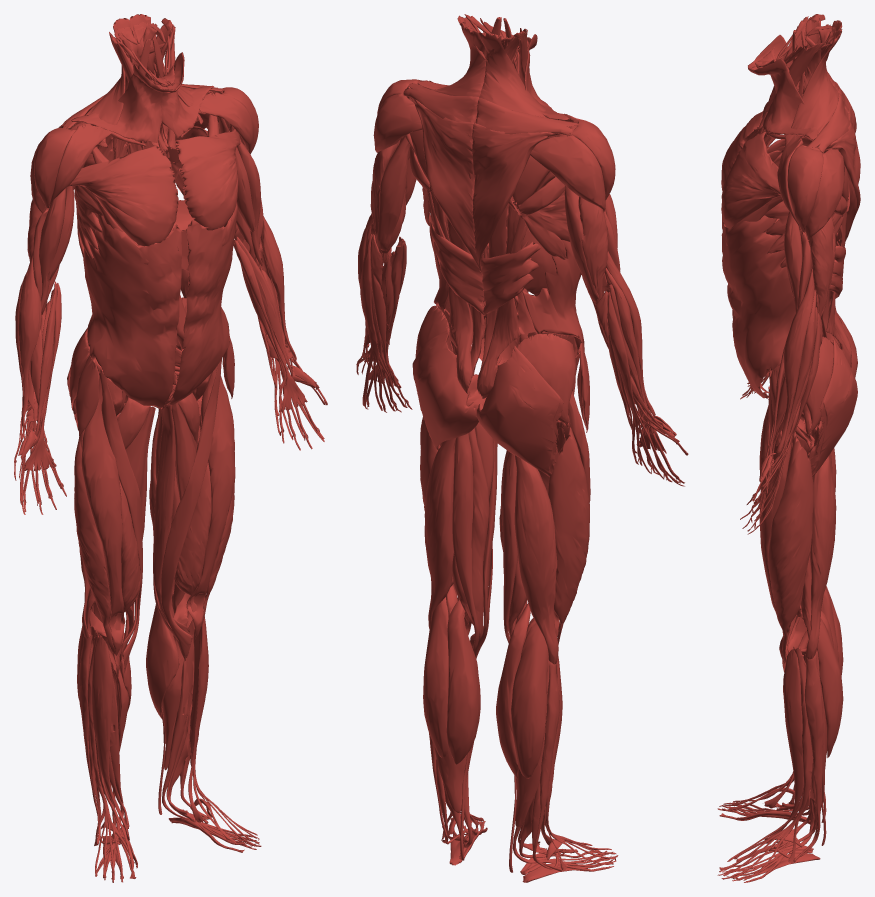
The model's file is muscles.glb.
3 renders of one model, left to right at view 1: azimuth 30°, elevation 25°; view 2: azimuth 150°, elevation 25°; view 3: azimuth 270°, elevation 25°, orthographic. The views are drawn at different scales.
Parts seen in each view (by area): view 1: external-oblique-r, external-oblique-l, pectoralis-major-r, rectus-femoris-r, pectoralis-major-l, rectus-femoris-l, sartorius-l, deltoid-r, vastus-lateralis-r, platysma-r, gracilis-l, sartorius-r (+37 smaller); view 2: trapezius-r, trapezius-l, gastrocnemius-l, gluteus-maximus-r, gastrocnemius-r, biceps-femoris-r, vastus-lateralis-r, gluteus-maximus-l, deltoid-r, biceps-femoris-l, external-oblique-r, triceps-brachii-r (+37 smaller); view 3: external-oblique-l, vastus-lateralis-l, deltoid-l, trapezius-l, biceps-femoris-l, pectoralis-major-l, gluteus-maximus-l, tibialis-anterior-l, platysma-l, gastrocnemius-l, brachioradialis-l, fibularis-longus-l (+32 smaller).
Boxes of the visible parts, left/top/right/bottom form: external-oblique-r: left=83, top=214, right=181, bottom=408; external-oblique-l: left=166, top=202, right=237, bottom=405; pectoralis-major-r: left=68, top=145, right=178, bottom=264; rectus-femoris-r: left=81, top=378, right=125, bottom=655; pectoralis-major-l: left=175, top=128, right=240, bottom=246; rectus-femoris-l: left=186, top=366, right=235, bottom=636; sartorius-l: left=161, top=358, right=222, bottom=657; deltoid-r: left=30, top=123, right=112, bottom=213; vastus-lateralis-r: left=74, top=429, right=115, bottom=654; platysma-r: left=71, top=64, right=174, bottom=142; gracilis-l: left=153, top=403, right=189, bottom=633; sartorius-r: left=97, top=369, right=142, bottom=673; trapezius-r: left=472, top=32, right=578, bottom=271; trapezius-l: left=403, top=26, right=486, bottom=271; gastrocnemius-l: left=423, top=597, right=480, bottom=764; gluteus-maximus-r: left=476, top=346, right=563, bottom=476; gastrocnemius-r: left=496, top=603, right=548, bottom=778; biceps-femoris-r: left=514, top=455, right=558, bottom=664; vastus-lateralis-r: left=548, top=421, right=589, bottom=644; gluteus-maximus-l: left=412, top=329, right=478, bottom=449; deltoid-r: left=530, top=113, right=615, bottom=211; biceps-femoris-l: left=424, top=438, right=456, bottom=628; external-oblique-r: left=522, top=240, right=584, bottom=350; triceps-brachii-r: left=564, top=185, right=608, bottom=304; external-oblique-l: left=721, top=215, right=795, bottom=398; vastus-lateralis-l: left=768, top=432, right=813, bottom=662; deltoid-l: left=777, top=134, right=844, bottom=240; trapezius-l: left=791, top=29, right=860, bottom=241; biceps-femoris-l: left=801, top=454, right=836, bottom=659; pectoralis-major-l: left=721, top=131, right=782, bottom=246; gluteus-maximus-l: left=809, top=339, right=857, bottom=476; tibialis-anterior-l: left=764, top=648, right=803, bottom=843; platysma-l: left=748, top=58, right=818, bottom=140; gastrocnemius-l: left=800, top=611, right=843, bottom=757; brachioradialis-l: left=776, top=265, right=814, bottom=453; fibularis-longus-l: left=770, top=653, right=823, bottom=858.
Bounding box in the file's own units: 0.6388 × 1.58 × 0.251.
